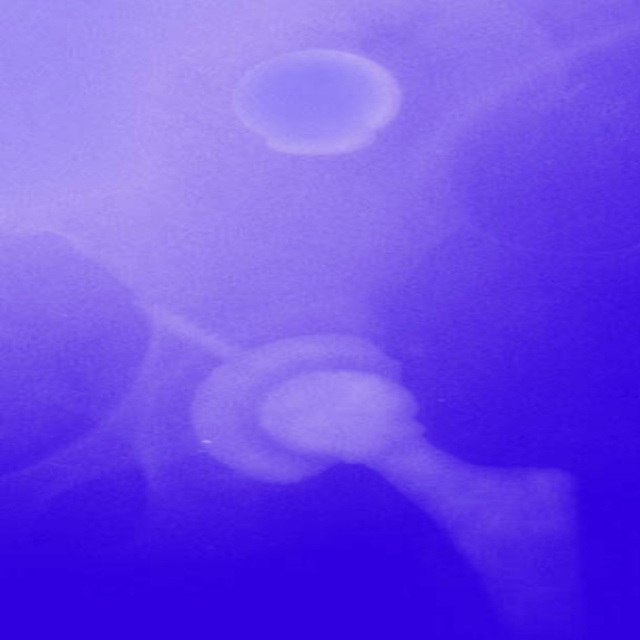Jellyfish: (151, 309, 598, 603)
